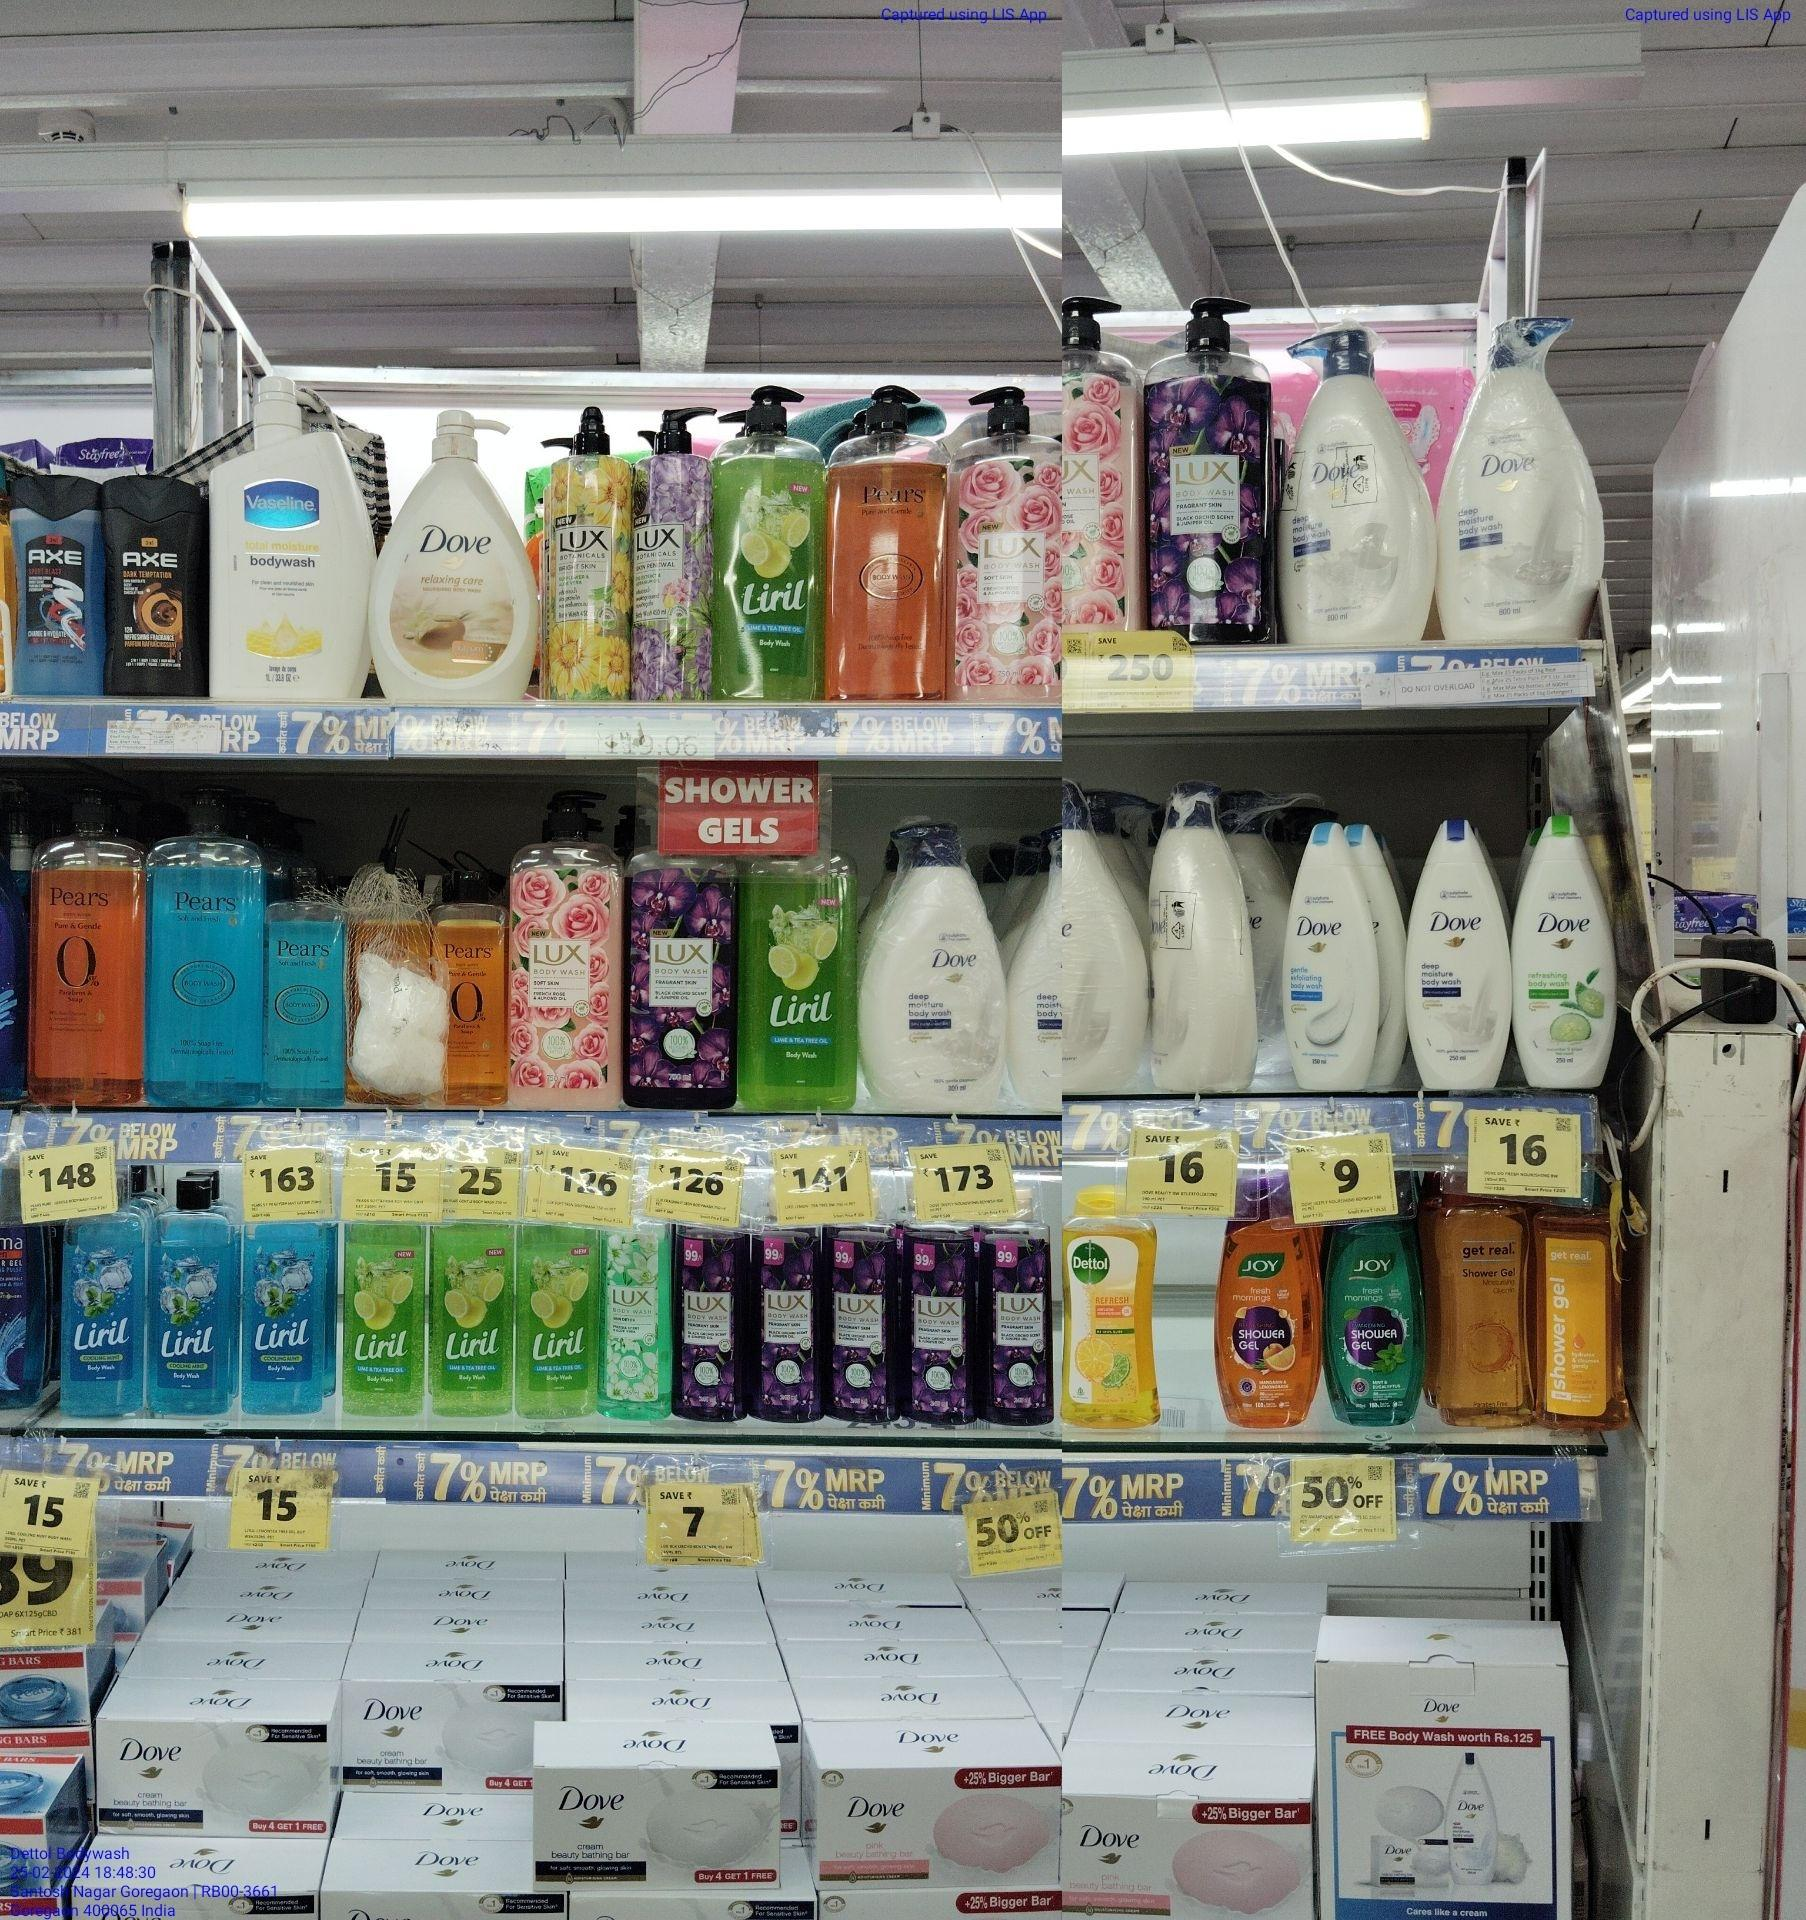Dettol_Bodywash_Refresh: (1057, 1187, 1161, 1431)
Joy_Shower_Gel_Mandarin_and_Lemongrass_250ML: (1225, 1173, 1312, 1431)
Joy_Shower_Gel_Mint_and_Eucalyptus_250ML: (1332, 1215, 1422, 1428)
Liril_Cooling_Mint_Body_Wash_250ML: (146, 1173, 236, 1416), (63, 1170, 139, 1407), (241, 1226, 324, 1412)
Liril_Lime_and_Tea_Tree_Oil_Body_Wash_250ML: (438, 1215, 519, 1418), (345, 1226, 428, 1421), (528, 1222, 601, 1419)
Lux_Black_Orchid_Scent_and_Juniper_Oil_Body_Wash_245ML: (981, 1236, 1052, 1429), (832, 1226, 898, 1429), (755, 1236, 823, 1421), (906, 1227, 973, 1416), (681, 1222, 738, 1414)
Lux_Body_Wash_Skin_Detox_Freesia_Scent_and_Alove_Vera_245ML: (603, 1224, 670, 1421)
